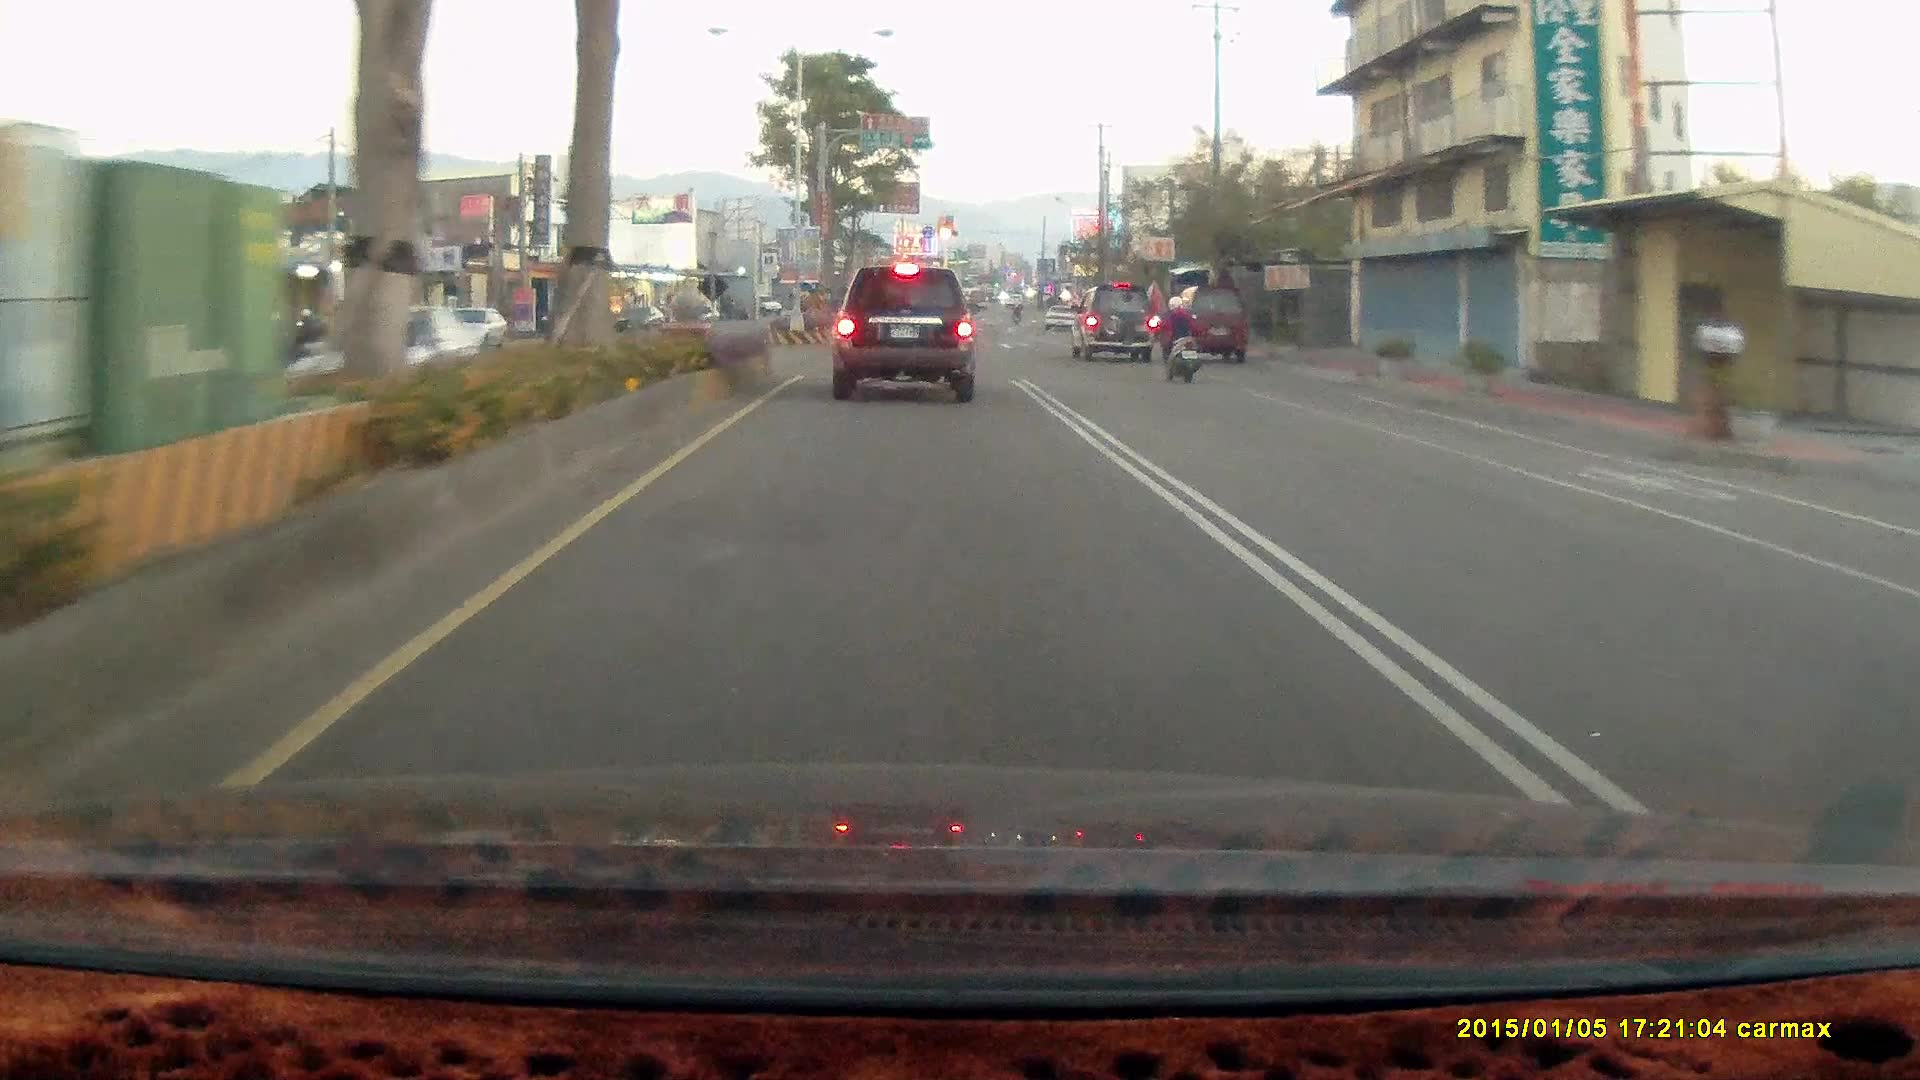rider: (1150, 284, 1208, 388), (1147, 290, 1198, 380)
vehicle: (831, 256, 982, 409), (831, 265, 979, 402), (1075, 280, 1166, 363), (1171, 281, 1251, 366), (1065, 279, 1154, 358), (1173, 280, 1247, 359), (436, 304, 509, 348)
